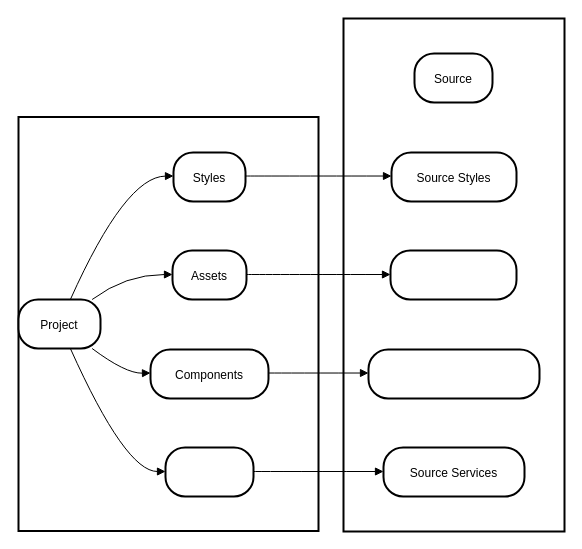
Some shapes in this 582 by 549 pixel diagram are drawn without their labels. Here are the shapes that lost their labels. From the top down, the box of each, then its label:
(389, 249, 517, 300): Source Assets
(17, 116, 319, 532): SecureSense Project
(367, 348, 540, 399): Source Components
(164, 446, 254, 497): Services
